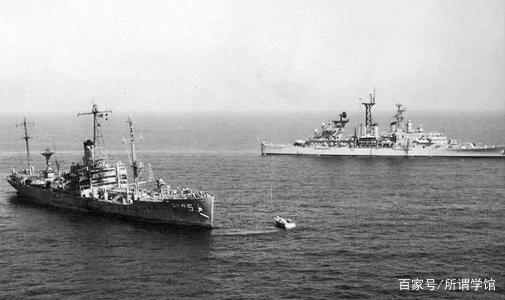warship: (8, 105, 224, 227), (260, 86, 505, 158)
